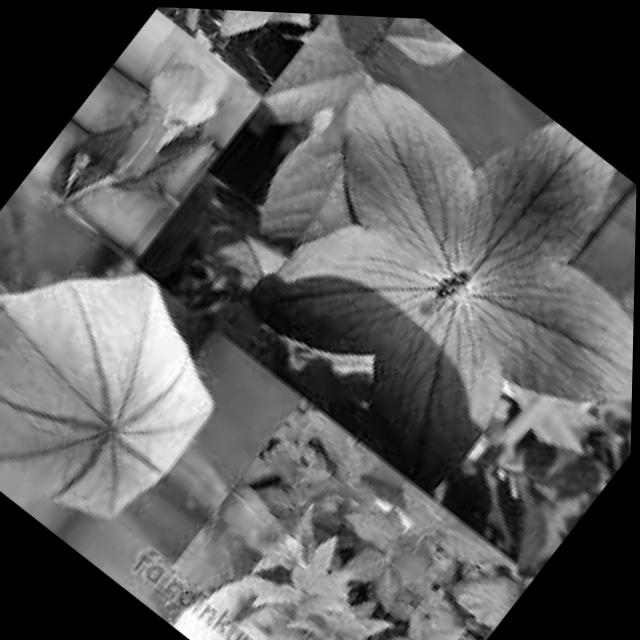Flower: (180, 7, 640, 553), (0, 210, 265, 565), (88, 44, 236, 210), (183, 6, 346, 72)
